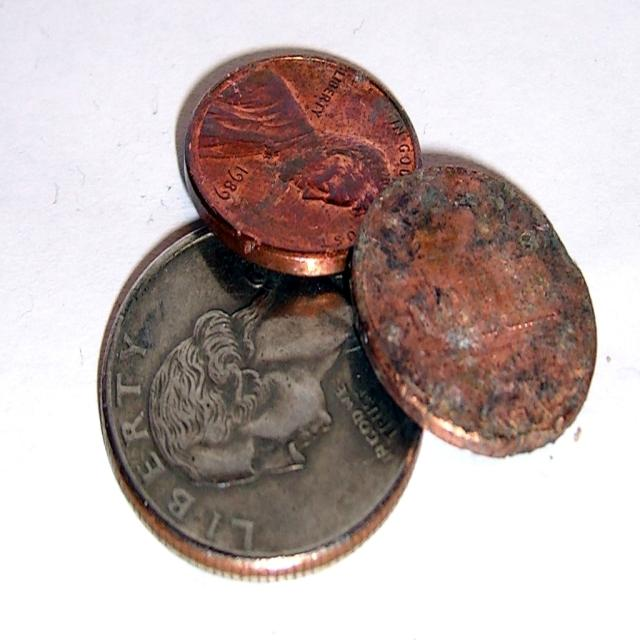Coin: (101, 224, 424, 584), (355, 151, 600, 458), (183, 55, 421, 277)
